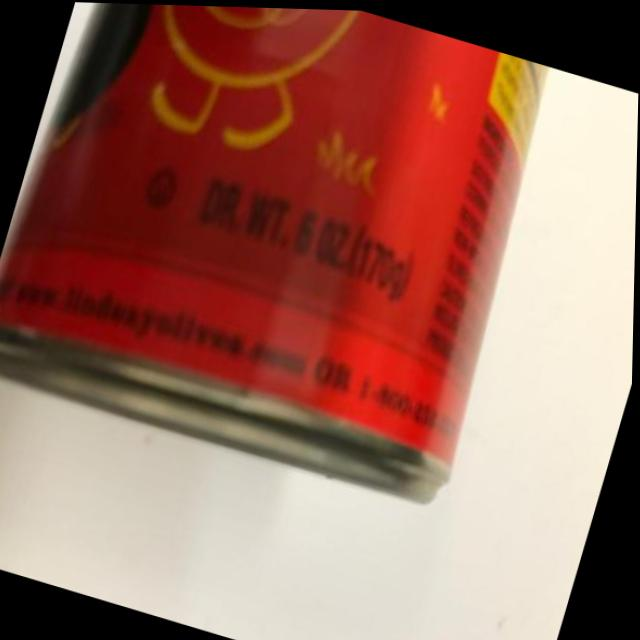metal: (0, 3, 543, 501)
